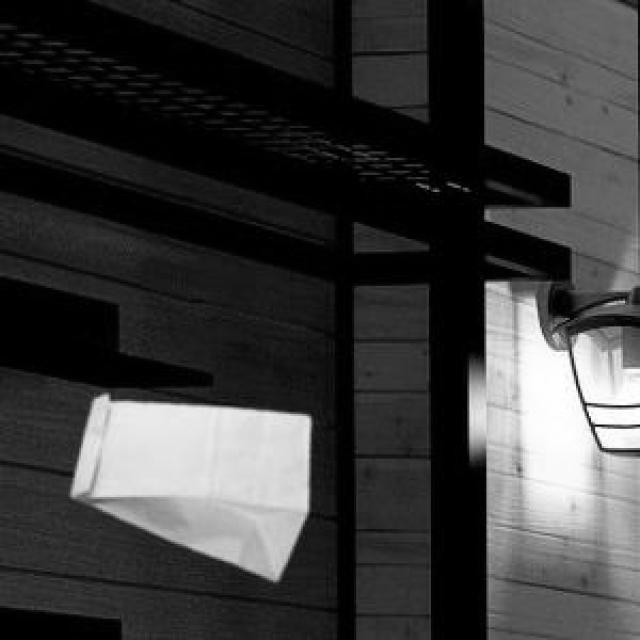paper: (68, 390, 304, 576)
